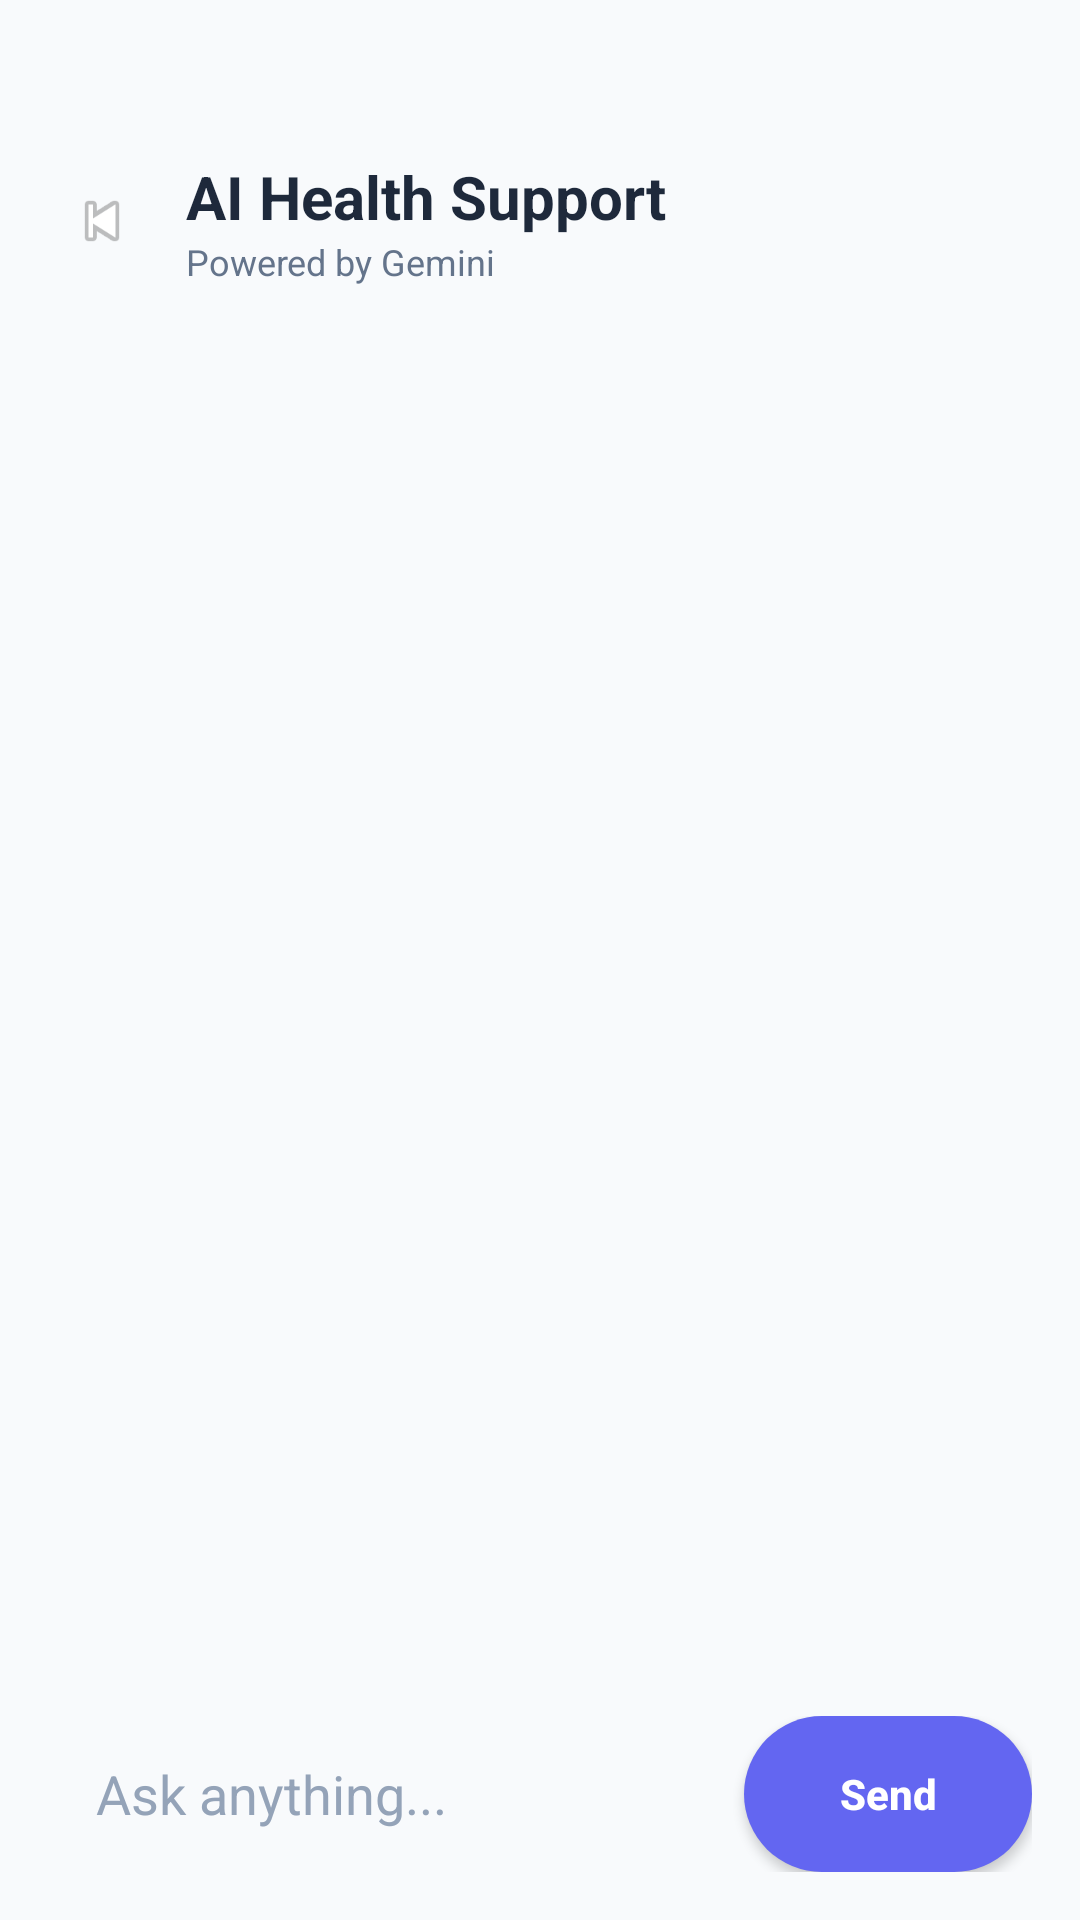

Icons on this 1080w x 1920h Android screen, each with the point to tap as [x,y]:
Back: [102,221]
